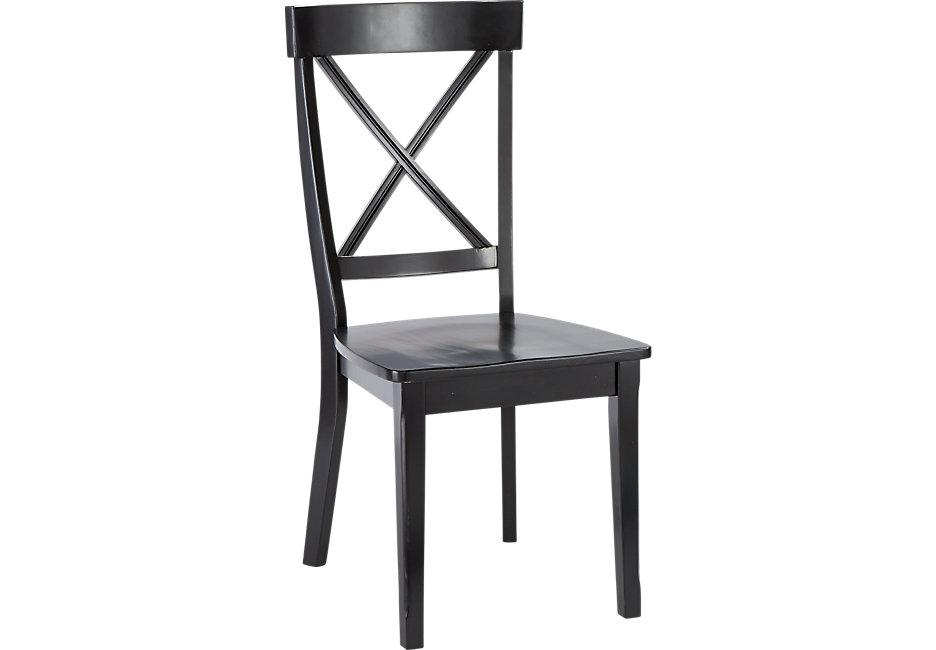chair: (216, 1, 737, 650)
